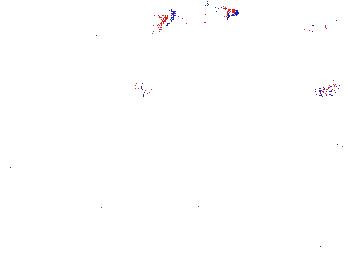redtail glassfish: (157, 5, 230, 32), (298, 6, 346, 41), (311, 73, 346, 99), (129, 78, 156, 105)
